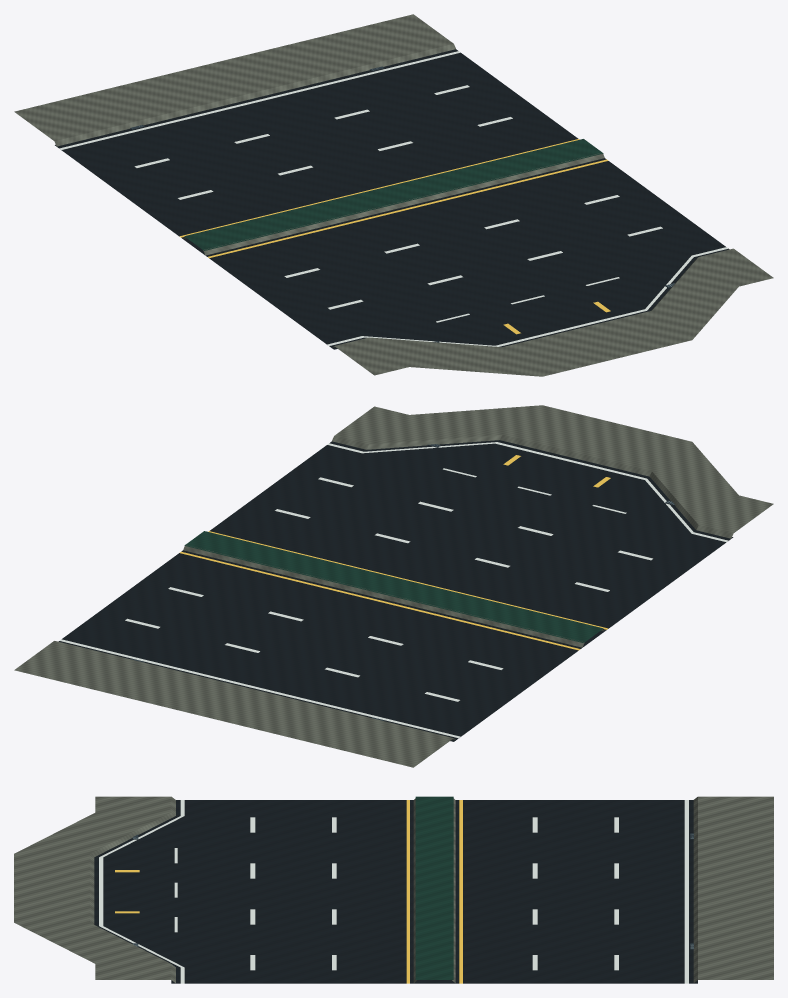
File: road_arterial_6lane_16m_transit_bay_LOD0.glb
3 renders of one model, top to bottom at view 1: azimuth 30°, elevation 25°; view 2: azimuth 150°, elevation 25°; view 3: azimuth 270°, elevation 25°, orthographic. The views are drawn at different scales.
Visible parts, largest first — view 1: road_arterial_6lane_16m_transit_bay__surface, road_arterial_6lane_16m_transit_bay__markings; view 2: road_arterial_6lane_16m_transit_bay__surface, road_arterial_6lane_16m_transit_bay__markings; view 3: road_arterial_6lane_16m_transit_bay__surface, road_arterial_6lane_16m_transit_bay__markings.
Boxes of the visible parts, x1,y1,x2,y2 form: road_arterial_6lane_16m_transit_bay__surface: (14, 14, 773, 376); road_arterial_6lane_16m_transit_bay__markings: (59, 51, 728, 346); road_arterial_6lane_16m_transit_bay__surface: (14, 405, 773, 767); road_arterial_6lane_16m_transit_bay__markings: (59, 442, 728, 738); road_arterial_6lane_16m_transit_bay__surface: (14, 796, 773, 983); road_arterial_6lane_16m_transit_bay__markings: (99, 800, 688, 983).
Bounding box in the file's own units: 16 × 0.15 × 28.
8 materials, 4 textured.
